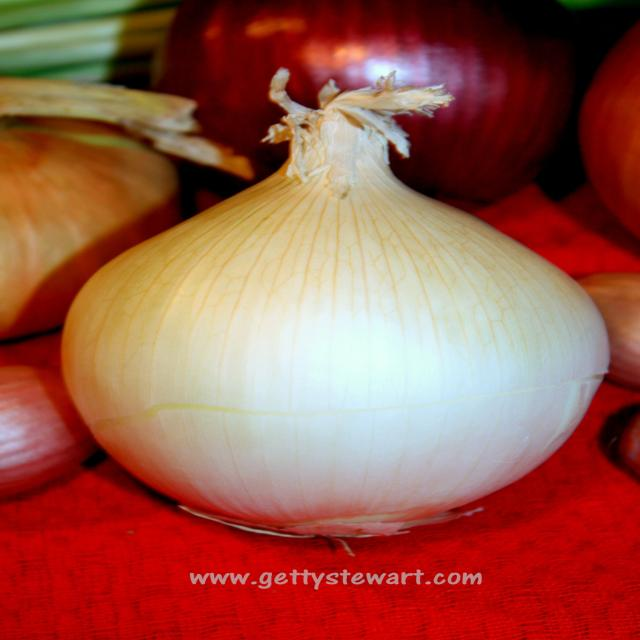onion: (58, 61, 611, 544)
